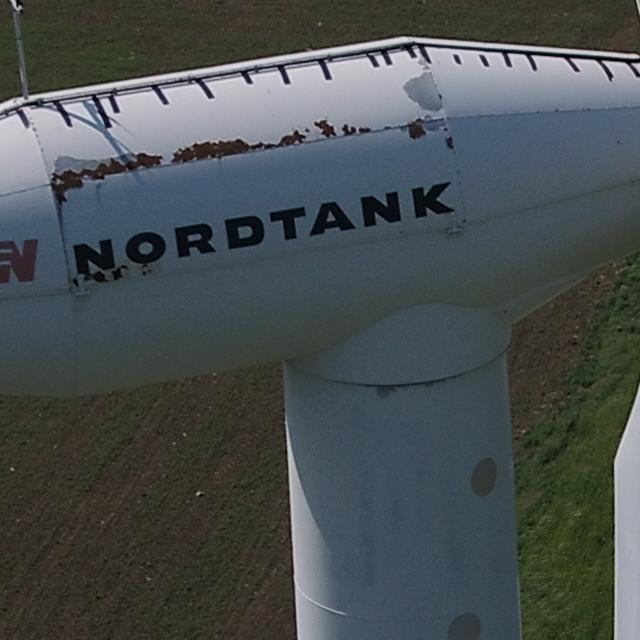damage: (169, 124, 308, 169), (47, 150, 165, 200), (401, 71, 445, 113), (403, 115, 429, 142), (312, 115, 336, 138), (80, 272, 111, 289), (110, 262, 132, 283), (340, 121, 357, 140), (358, 121, 375, 136), (138, 262, 153, 275)
